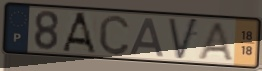8: (32, 9, 61, 52)
A: (195, 21, 236, 63), (60, 11, 98, 56), (128, 16, 167, 59)
C: (97, 13, 131, 57)
V: (166, 16, 200, 63)
